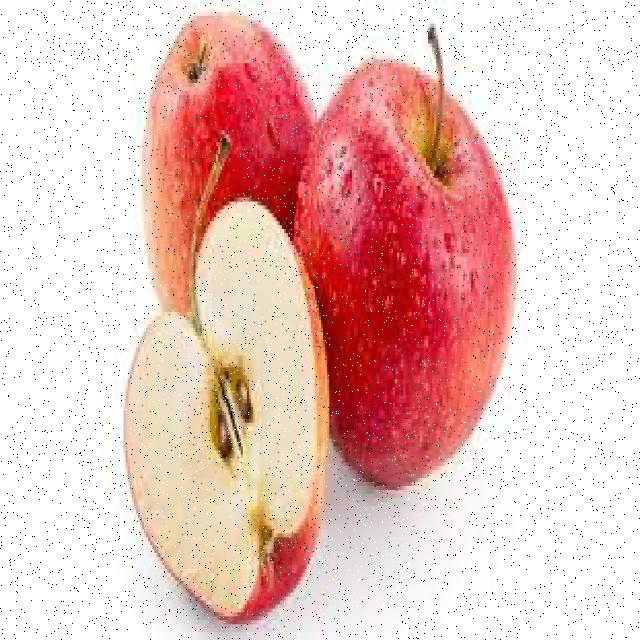Apple: (301, 51, 514, 502), (125, 202, 331, 617), (142, 11, 307, 259)
